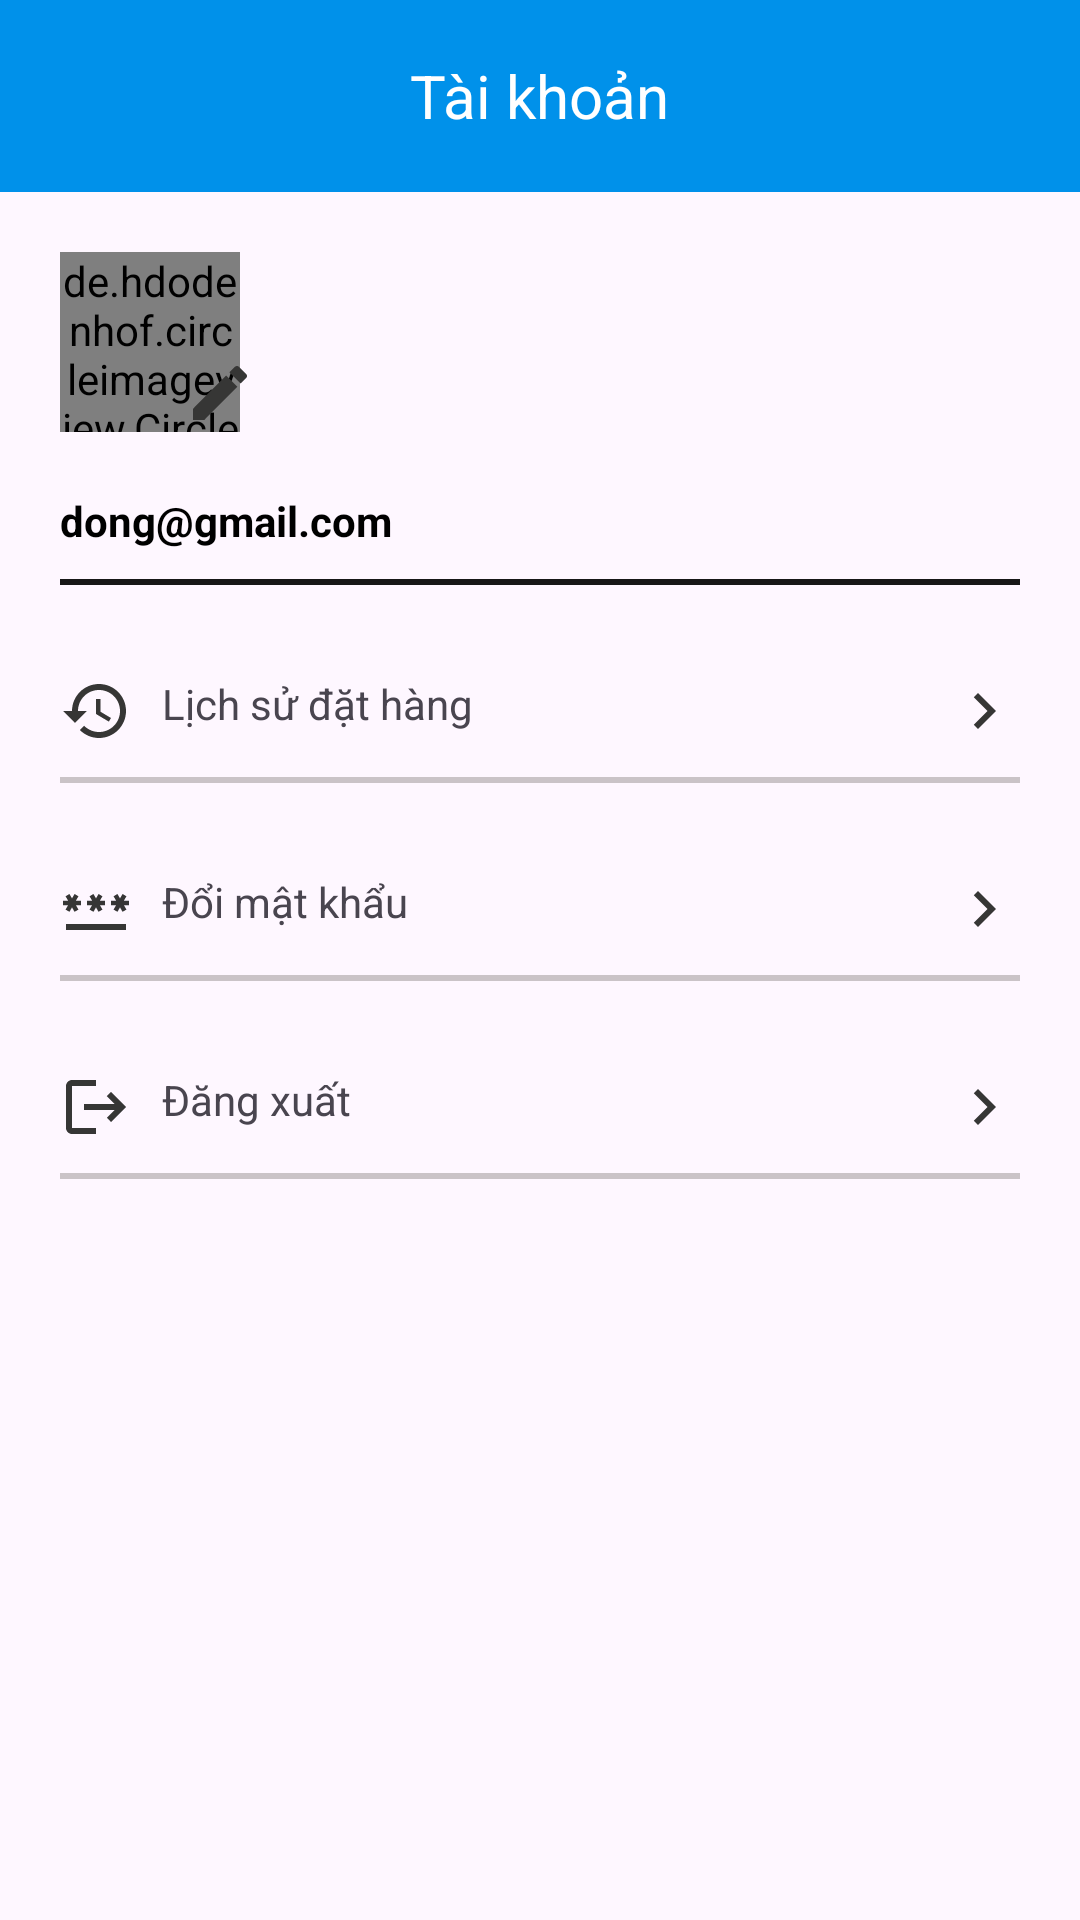

Where to tap for icons on this 1080 x 1920 app screen, as (x,y):
edit: (220,393)
history: (94,711)
navigate next: (985,711), (985,909), (985,1107)
password: (96,912)
